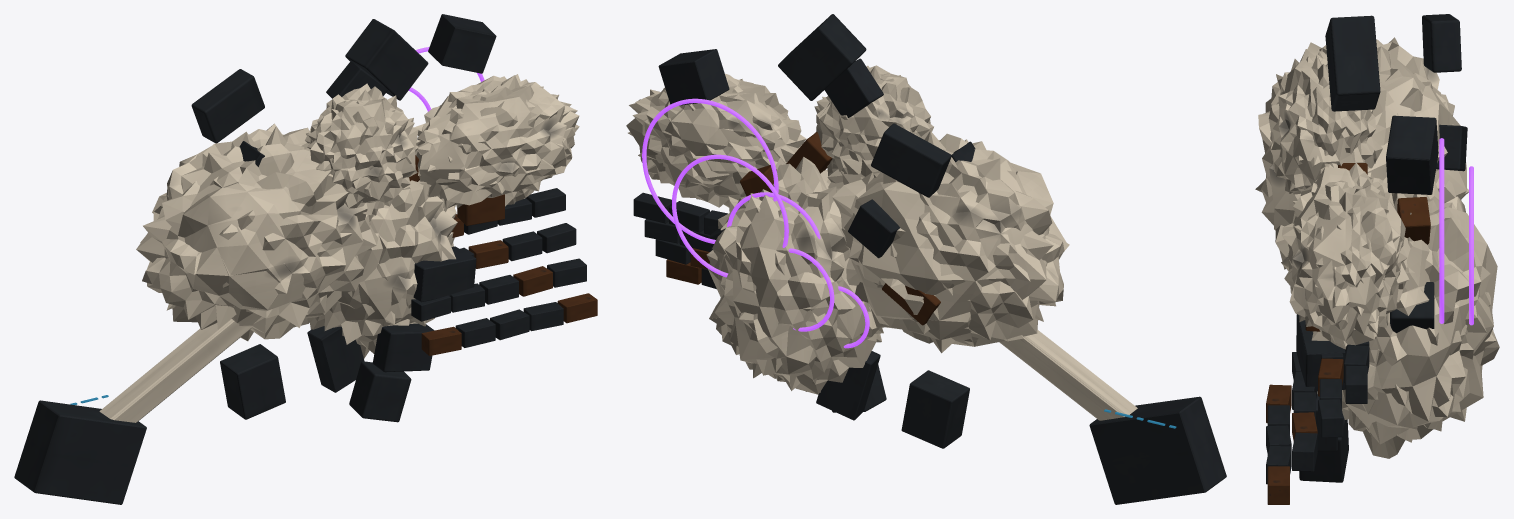
Rendered from place_station_blackmarket.glb.
3 views of the same model, side by side, from view 1: azimuth 30°, elevation 25°; view 2: azimuth 150°, elevation 25°; view 3: azimuth 270°, elevation 25° (orthographic). The views are drawn at different scales.
Visible parts, largest first — view 1: LOD0_Station_Material_Hull, LOD0_Station_Material_Mechanical, LOD1_Station_Material_Hull, LOD2_Station_Material_Hull, LOD1_Station_Material_Mechanical, LOD2_Station_Material_Mechanical, LOD0_Station_Material_Warm, LOD1_Station_Material_Warm, LOD2_Station_Material_Warm; view 2: LOD0_Station_Material_Hull, LOD1_Station_Material_Hull, LOD0_Station_Material_Mechanical, LOD1_Station_Material_Mechanical, LOD2_Station_Material_Hull, LOD2_Station_Material_Mechanical, LOD0_Station_Material_Accent, LOD0_Station_Material_Warm, LOD2_Station_Material_Warm, LOD1_Station_Material_Warm; view 3: LOD0_Station_Material_Hull, LOD1_Station_Material_Hull, LOD0_Station_Material_Mechanical, LOD2_Station_Material_Hull, LOD1_Station_Material_Mechanical, LOD0_Station_Material_Warm, LOD2_Station_Material_Mechanical, LOD0_Station_Material_Accent, LOD1_Station_Material_Warm, LOD2_Station_Material_Warm.
Boxes of the visible parts, x1,y1,x2,y2 form: LOD0_Station_Material_Hull: [101, 74, 579, 422]; LOD0_Station_Material_Mechanical: [16, 14, 586, 502]; LOD1_Station_Material_Hull: [100, 75, 579, 422]; LOD2_Station_Material_Hull: [99, 82, 564, 422]; LOD1_Station_Material_Mechanical: [15, 14, 586, 504]; LOD2_Station_Material_Mechanical: [14, 14, 563, 504]; LOD0_Station_Material_Warm: [409, 155, 596, 352]; LOD1_Station_Material_Warm: [423, 203, 597, 355]; LOD2_Station_Material_Warm: [421, 194, 597, 355]; LOD0_Station_Material_Hull: [628, 65, 1134, 420]; LOD1_Station_Material_Hull: [626, 65, 1122, 420]; LOD0_Station_Material_Mechanical: [633, 14, 1213, 502]; LOD1_Station_Material_Mechanical: [655, 49, 1226, 504]; LOD2_Station_Material_Hull: [661, 87, 1137, 420]; LOD2_Station_Material_Mechanical: [658, 49, 1226, 504]; LOD0_Station_Material_Accent: [642, 98, 869, 348]; LOD0_Station_Material_Warm: [667, 132, 935, 323]; LOD2_Station_Material_Warm: [666, 260, 940, 325]; LOD1_Station_Material_Warm: [666, 166, 940, 324]; LOD0_Station_Material_Hull: [1255, 37, 1499, 458]; LOD1_Station_Material_Hull: [1265, 39, 1497, 444]; LOD0_Station_Material_Mechanical: [1266, 14, 1462, 483]; LOD2_Station_Material_Hull: [1270, 45, 1483, 429]; LOD1_Station_Material_Mechanical: [1266, 115, 1467, 484]; LOD0_Station_Material_Warm: [1267, 163, 1428, 504]; LOD2_Station_Material_Mechanical: [1266, 115, 1438, 483]; LOD0_Station_Material_Accent: [1439, 138, 1473, 325]; LOD1_Station_Material_Warm: [1266, 197, 1430, 504]; LOD2_Station_Material_Warm: [1266, 325, 1320, 504].
Size of what is drawn, in the model's own units: 107 by 72.75 by 33.01.
5 materials, 5 textured.
